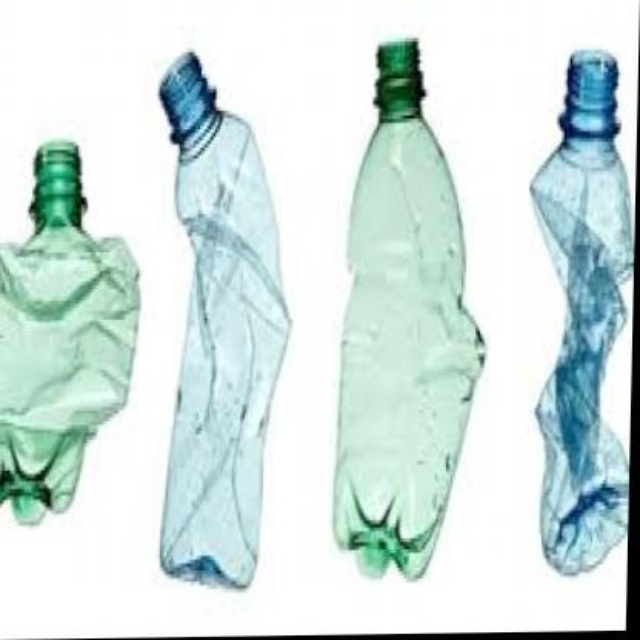trash: (334, 40, 483, 578), (160, 52, 288, 586), (0, 140, 138, 523), (531, 51, 631, 574)
